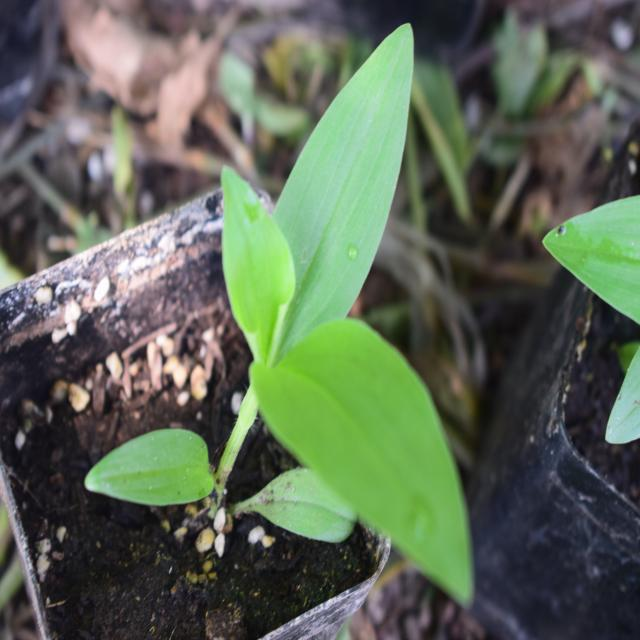Common Dayflower: (142, 25, 482, 609)
